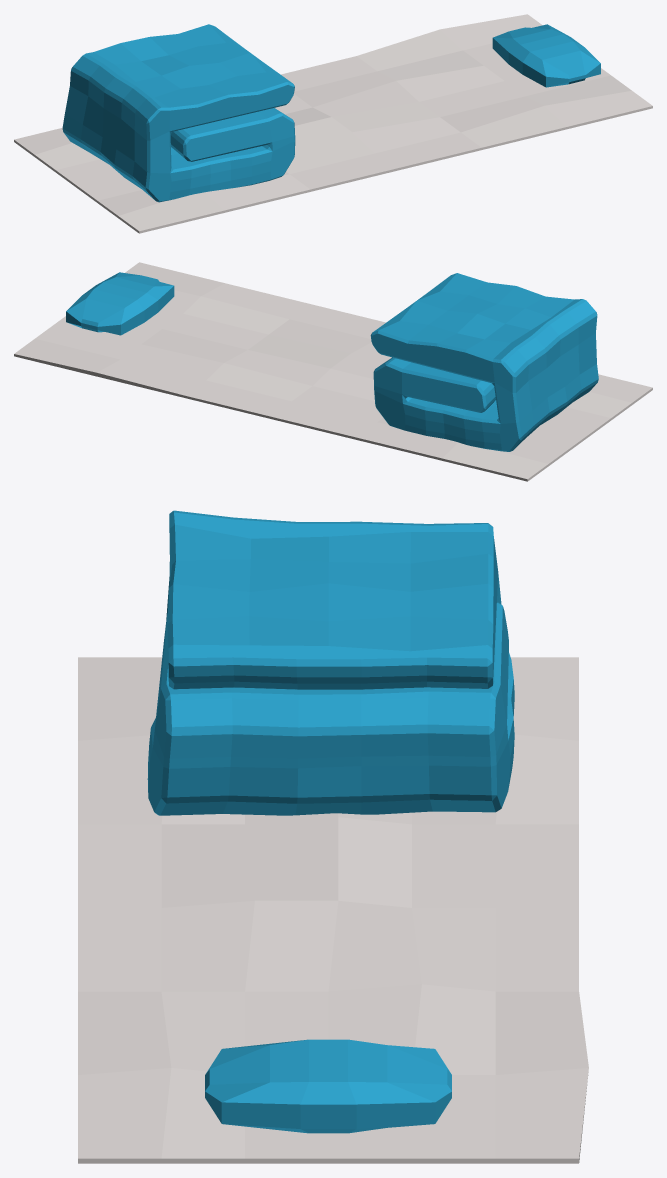
File: 床上被子.fbx
3 renders of one model, top to bottom at view 1: azimuth 30°, elevation 25°; view 2: azimuth 150°, elevation 25°; view 3: azimuth 270°, elevation 25°, orthographic. The views are drawn at different scales.
Parts seen in each view (by area): view 1: 床单, 折起来的被子, 枕头; view 2: 床单, 折起来的被子, 枕头; view 3: 床单, 折起来的被子, 枕头.
Boxes of the visible parts, bbox=[...] form: 床单: bbox=[14, 14, 652, 233]; 折起来的被子: bbox=[62, 24, 295, 202]; 枕头: bbox=[492, 24, 600, 87]; 床单: bbox=[14, 262, 652, 481]; 折起来的被子: bbox=[370, 273, 598, 451]; 枕头: bbox=[66, 272, 174, 335]; 床单: bbox=[78, 657, 588, 1163]; 折起来的被子: bbox=[147, 510, 514, 815]; 枕头: bbox=[205, 1039, 451, 1133].
Size of the model in its own units: 722 by 131 by 311.
